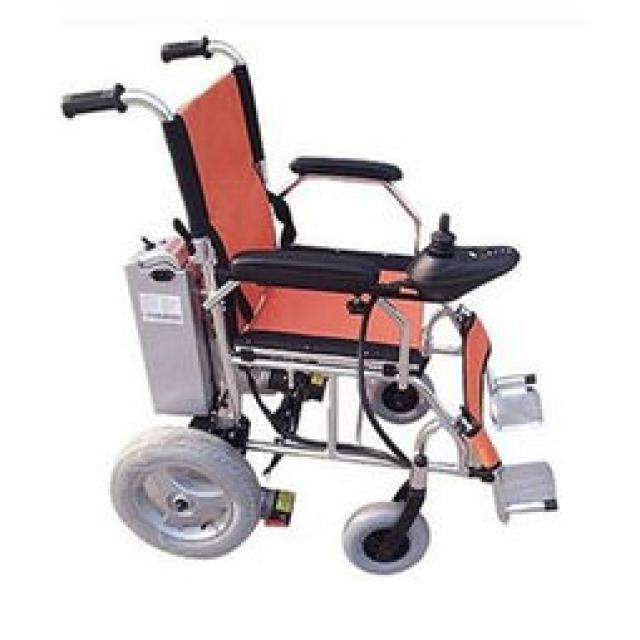wheelchairs: (69, 38, 552, 572)
